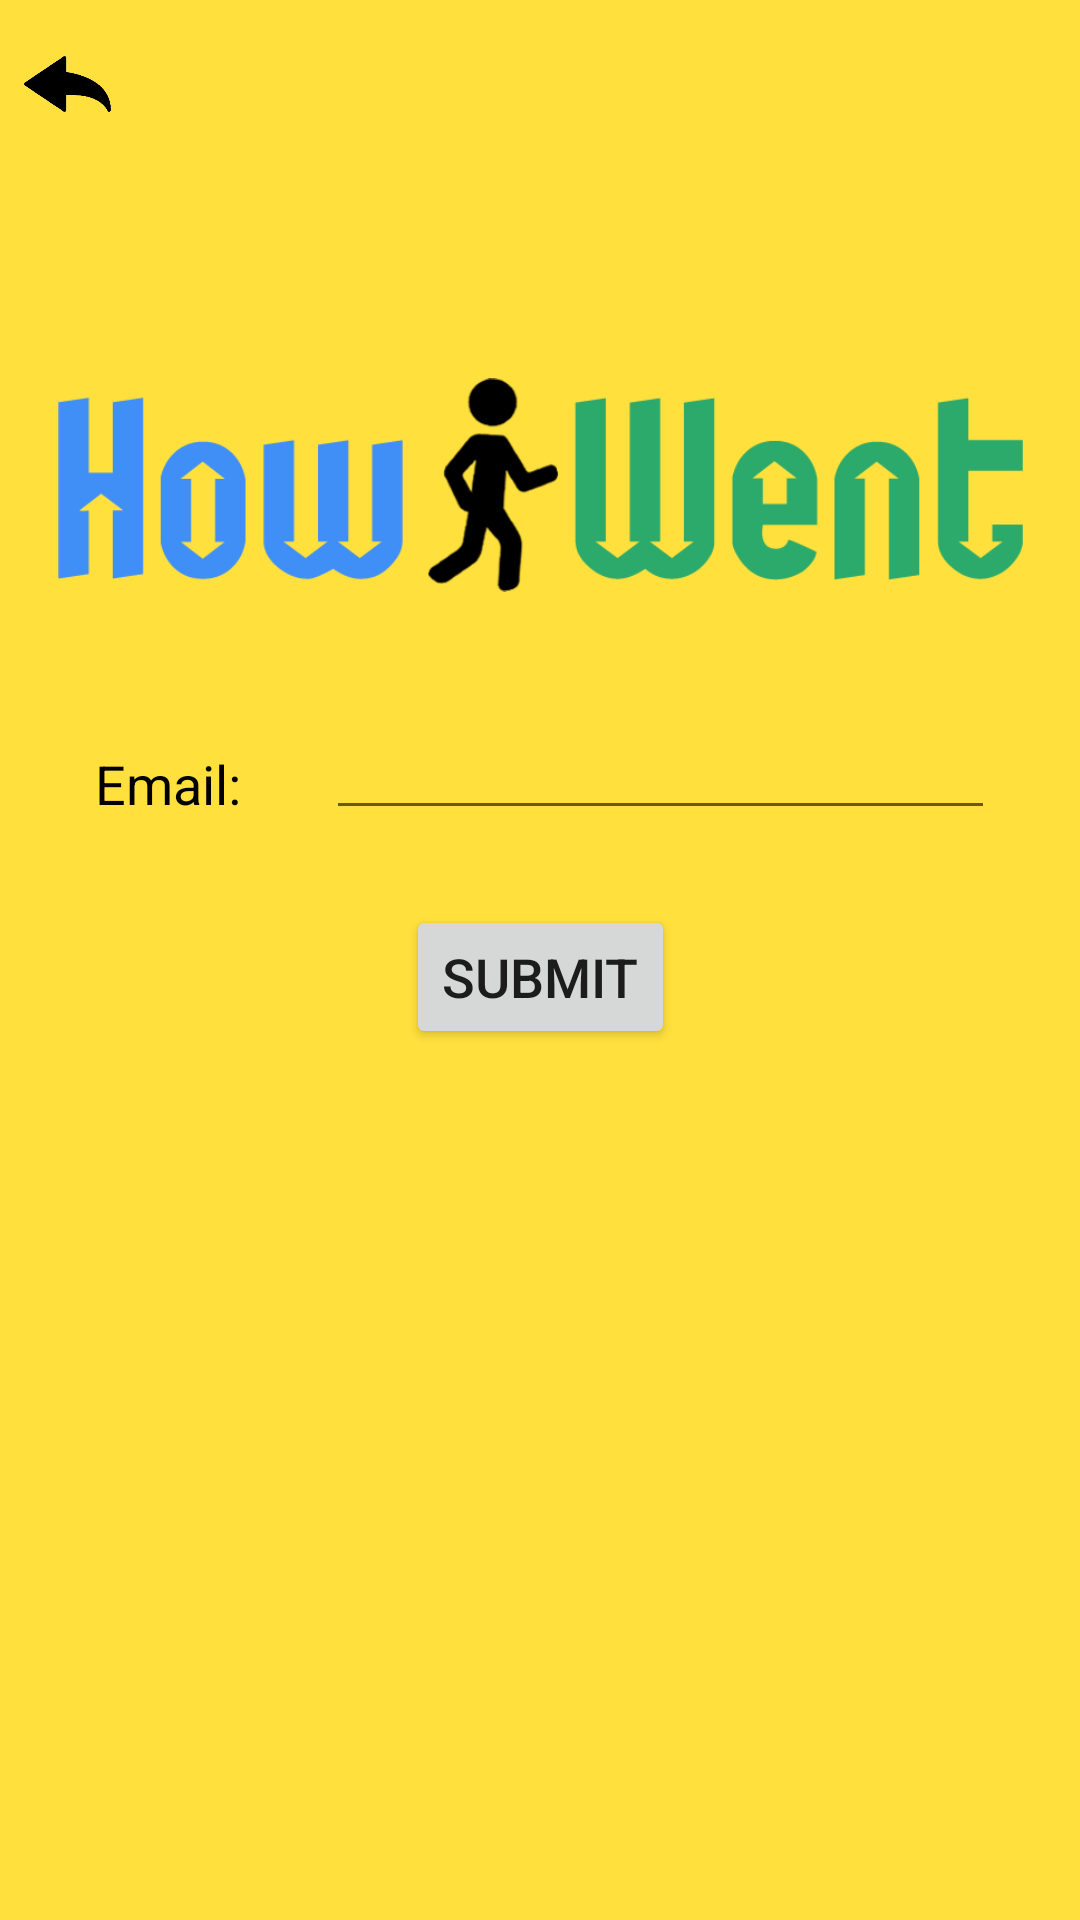

Icons on this 1080px×1920px Android screen, each with the point to tap as [x,y]:
back: [67,84]
